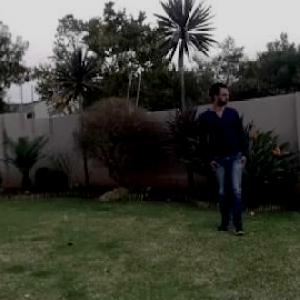follow: (204, 77, 250, 236)
